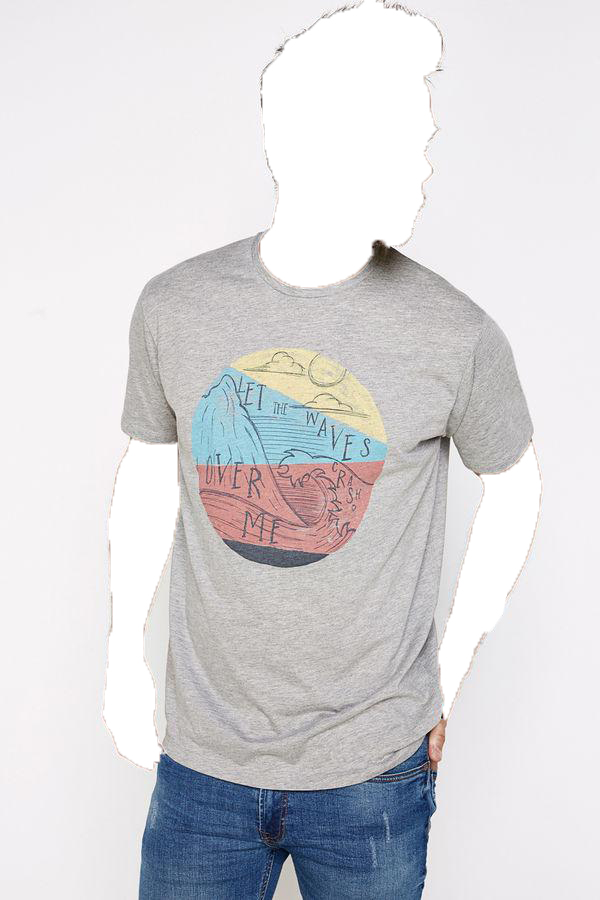teeshirt: (112, 236, 535, 797)
